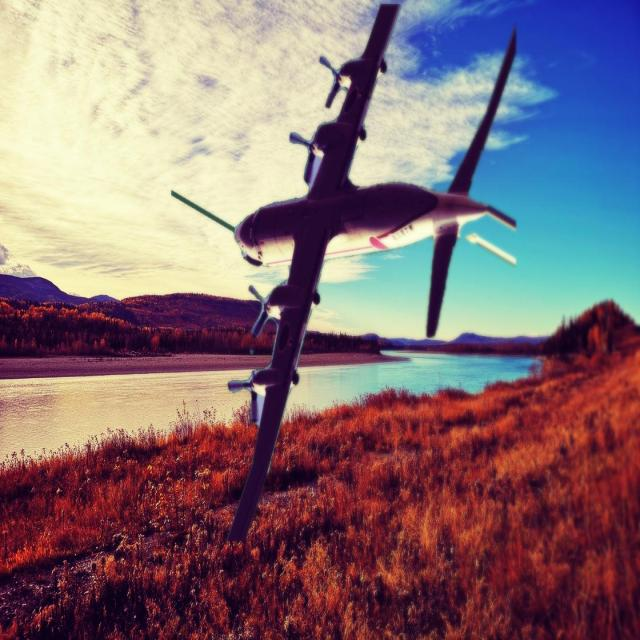airplane: (169, 1, 519, 544)
